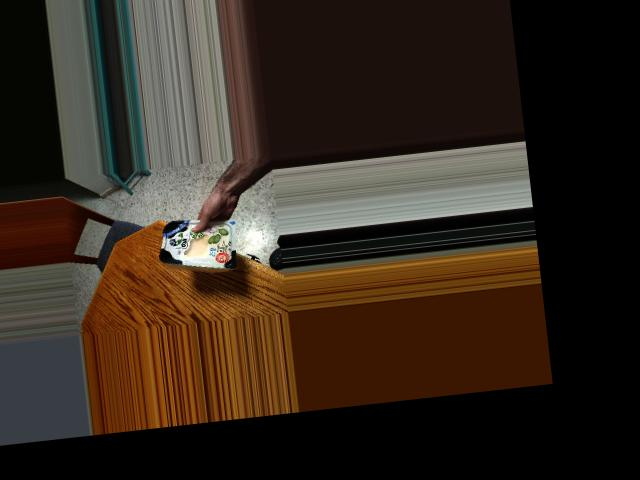cheese: (163, 208, 226, 275)
